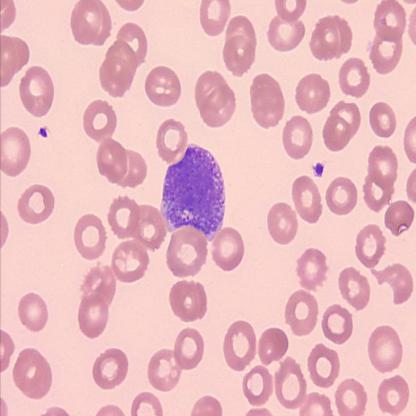Myelocyte: (160, 140, 224, 244)
